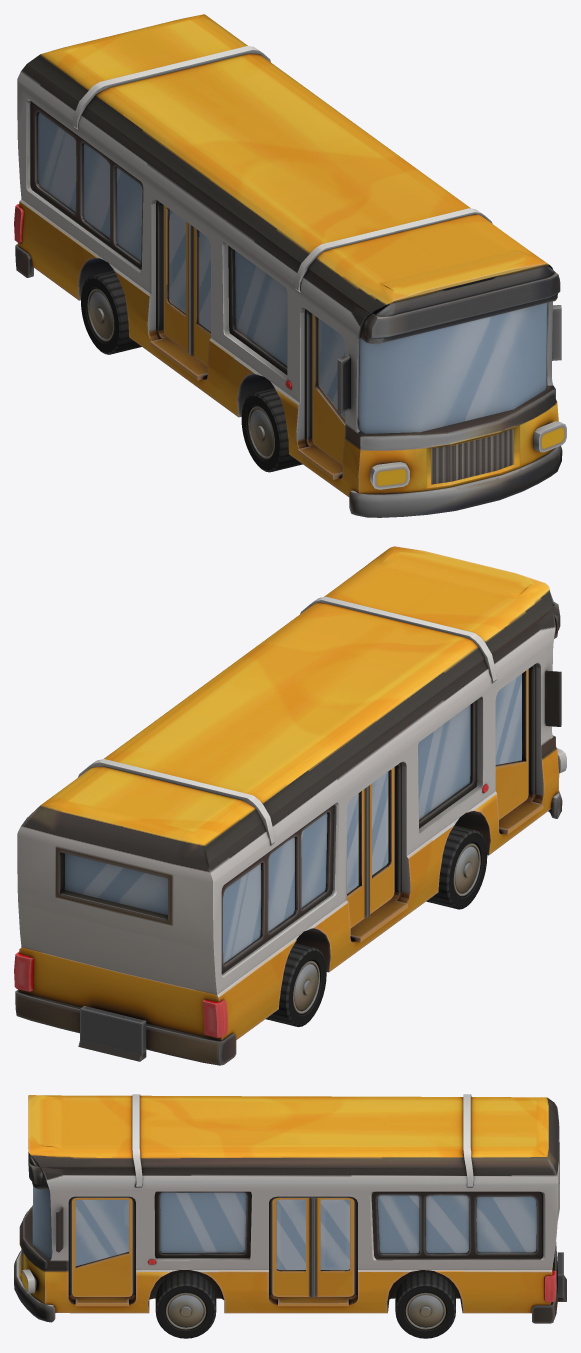
The model's file is Bus-01.fbx.
3 views of the same model, one above another, from view 1: azimuth 30°, elevation 25°; view 2: azimuth 150°, elevation 25°; view 3: azimuth 270°, elevation 25° (orthographic). The views are drawn at different scales.
Parts seen in each view (by area): view 1: Bus, Front-Right-D, Back-Right-2-D, Back-R-Wheel, Front-R-Wheel, Back-Right-1-D; view 2: Bus, Front-Right-D, Back-Right-1-D, Front-R-Wheel, Back-R-Wheel, Back-Right-2-D; view 3: Bus, Front-Left-D, Back-Left-1-D, Back-Left-2-D, Front-L-Wheel, Back-L-Wheel.
Part boxes in pixels (x1,y1,x2,y2): Bus: (14, 14, 566, 517); Front-Right-D: (312, 314, 345, 464); Back-Right-2-D: (163, 205, 190, 354); Back-R-Wheel: (81, 270, 141, 354); Front-R-Wheel: (241, 388, 302, 472); Back-Right-1-D: (190, 225, 210, 365); Bus: (14, 546, 566, 1065); Front-Right-D: (495, 669, 528, 819); Back-Right-1-D: (367, 767, 394, 916); Front-R-Wheel: (426, 825, 487, 909); Back-R-Wheel: (265, 943, 326, 1026); Back-Right-2-D: (347, 787, 367, 928); Bus: (14, 1094, 566, 1323); Front-Left-D: (72, 1198, 132, 1296); Back-Left-1-D: (272, 1198, 313, 1297); Back-Left-2-D: (313, 1198, 354, 1297); Front-L-Wheel: (155, 1272, 216, 1338); Back-L-Wheel: (395, 1272, 455, 1338).
Size of the model in its own units: 2.81 by 2.91 by 8.07.
